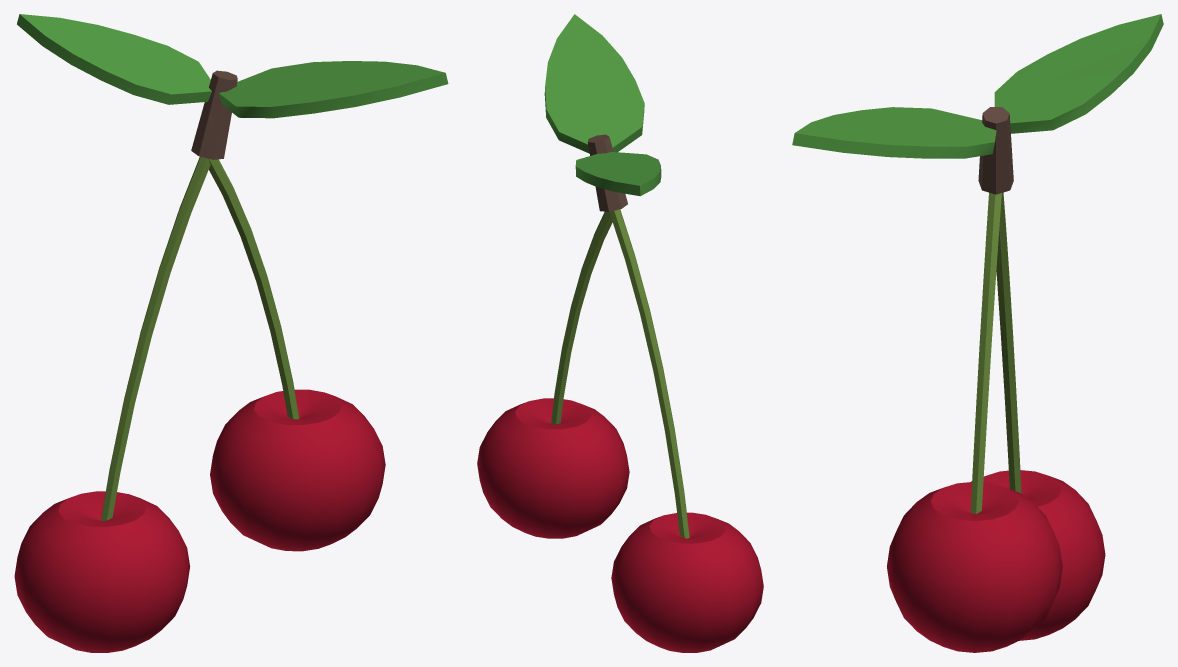
The model's file is cherry.glb.
The picture shows the model from 3 angles, left to right: view 1: azimuth 30°, elevation 25°; view 2: azimuth 150°, elevation 25°; view 3: azimuth 270°, elevation 25°; orthographic projection. The views are drawn at different scales.
Visible parts, largest first — view 1: body; view 2: body; view 3: body.
Boxes of the visible parts, box(x1,y1,x2,y2) form: body: box(14, 14, 448, 652); body: box(477, 14, 763, 652); body: box(792, 14, 1163, 652).
Size of the model in its own units: 0.0746 by 0.1282 by 0.0696.
Materials: 1 (1 with a texture image).
